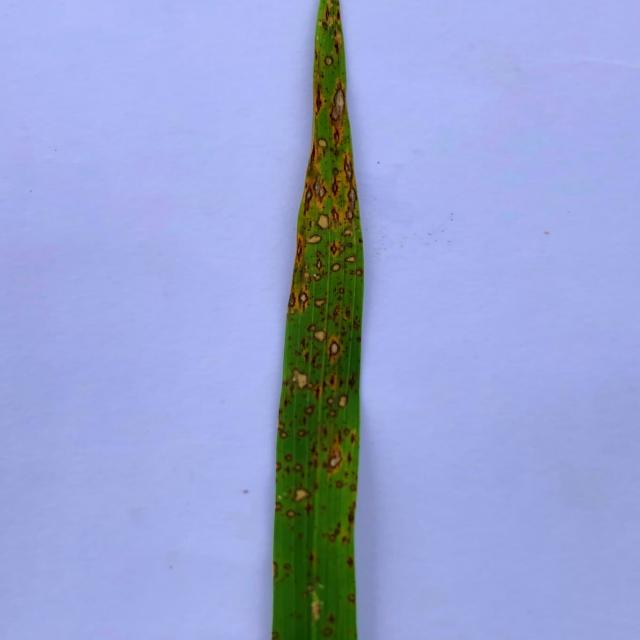leaf blast: (330, 79, 346, 129), (326, 442, 344, 477), (289, 364, 309, 395), (300, 185, 316, 216), (327, 335, 343, 366), (328, 167, 343, 198), (313, 174, 328, 203), (268, 557, 284, 584), (342, 151, 354, 185), (314, 82, 326, 116), (316, 209, 332, 233), (329, 128, 344, 152), (311, 326, 329, 346), (292, 486, 310, 506), (346, 183, 358, 210), (332, 23, 342, 54), (313, 295, 330, 311), (294, 236, 304, 262), (277, 422, 290, 442), (335, 393, 350, 410), (307, 232, 323, 247), (296, 291, 310, 308), (288, 290, 298, 313), (327, 530, 339, 549), (328, 240, 340, 258), (315, 136, 329, 151), (342, 225, 355, 241), (323, 52, 335, 68), (283, 508, 299, 520), (294, 427, 310, 438), (320, 17, 330, 34), (311, 271, 324, 284), (329, 207, 341, 221), (325, 394, 337, 407), (321, 626, 334, 638), (303, 264, 310, 286), (282, 452, 296, 463), (331, 481, 345, 492), (292, 462, 304, 474), (282, 560, 294, 572), (327, 407, 340, 418), (345, 208, 355, 222), (306, 579, 316, 593), (330, 263, 342, 274), (344, 255, 358, 264), (352, 268, 363, 279), (274, 502, 285, 513), (303, 406, 315, 416), (337, 284, 347, 296), (346, 592, 356, 604), (272, 627, 281, 640), (276, 460, 284, 474), (313, 248, 324, 258), (314, 258, 323, 270), (342, 427, 351, 438), (338, 244, 348, 253), (304, 589, 310, 600), (350, 484, 357, 493)
